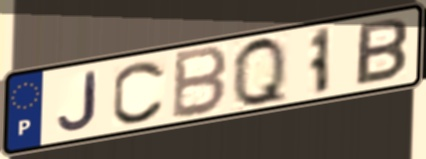1: (307, 23, 334, 98)
B: (169, 43, 231, 122), (353, 16, 411, 89)
C: (109, 58, 168, 126)
J: (55, 69, 100, 133)
Q: (230, 34, 291, 109)
